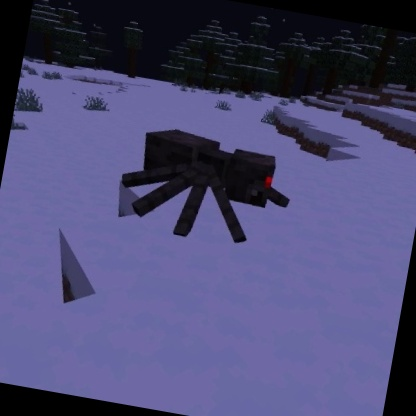spider: (109, 117, 303, 259)
